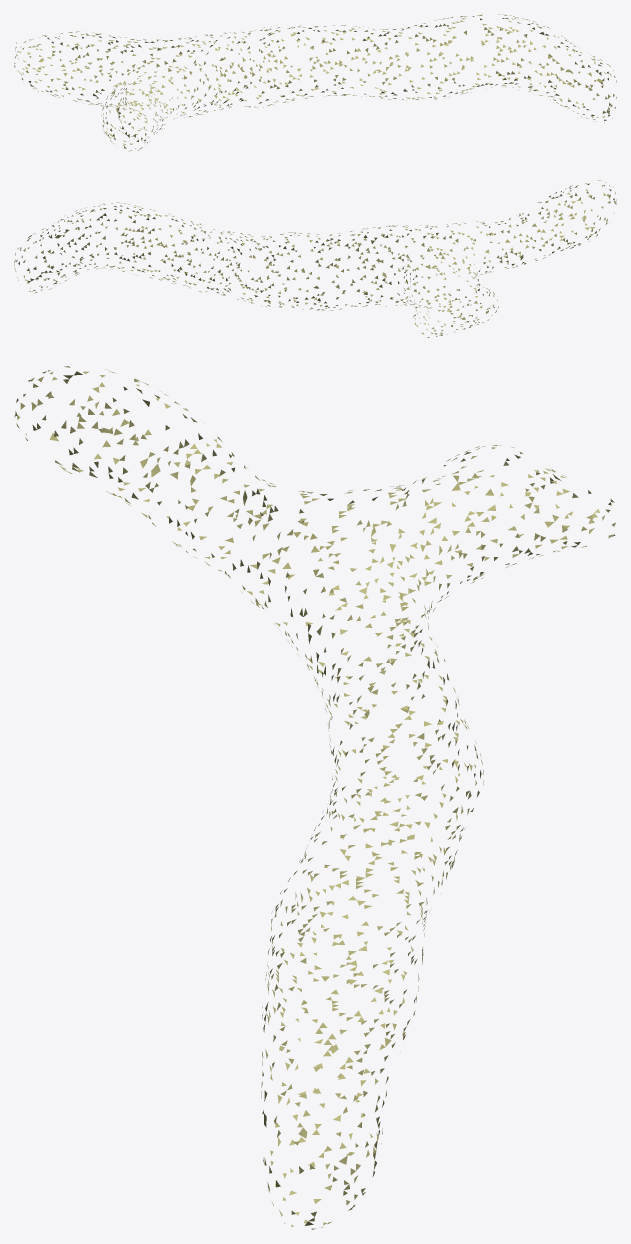
Rendered from morph_009.glb.
The picture shows the model from 3 angles, top to bottom: view 1: azimuth 30°, elevation 25°; view 2: azimuth 150°, elevation 25°; view 3: azimuth 270°, elevation 25°; orthographic projection. The views are drawn at different scales.
Bounding box in the file's own units: 107 × 35.86 × 52.46.
